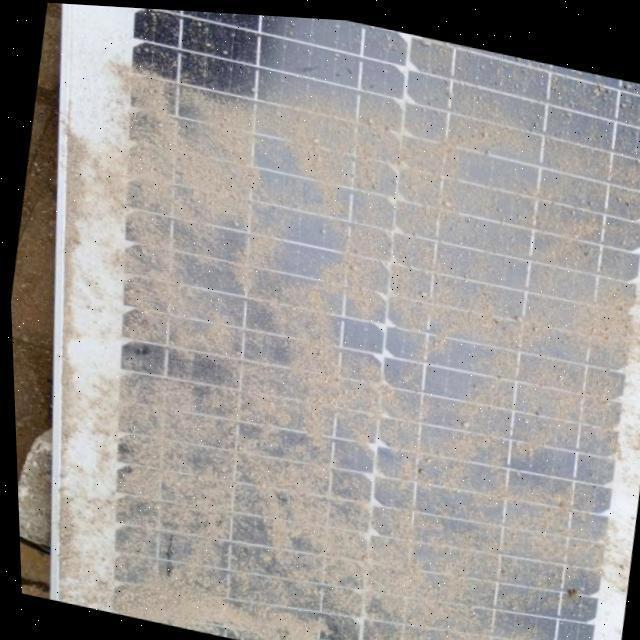Surface Contaminant: (68, 7, 640, 640)
